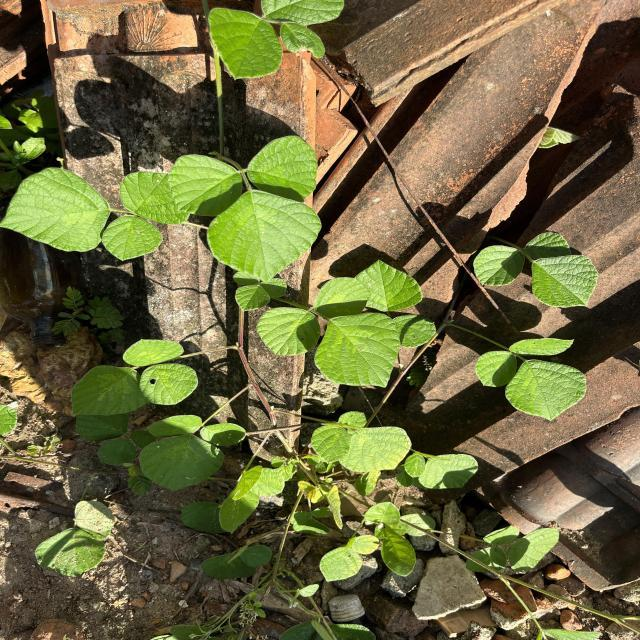Pseudarthria viscida: (166, 134, 324, 286), (0, 166, 182, 263), (255, 276, 402, 389), (69, 337, 200, 417), (472, 230, 600, 308), (474, 337, 588, 422), (138, 414, 248, 492)
